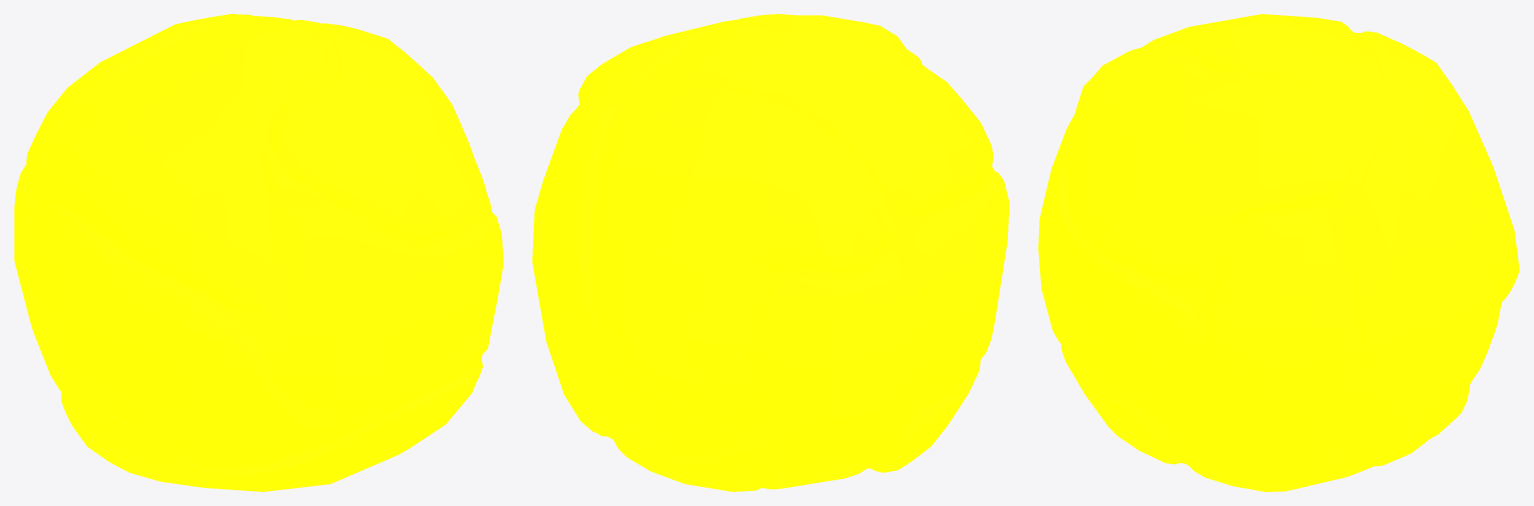
The model's file is planet_41.glb.
3 renders of one model, left to right at view 1: azimuth 30°, elevation 25°; view 2: azimuth 150°, elevation 25°; view 3: azimuth 270°, elevation 25°, orthographic.
Parts seen in each view (by area): view 1: Cube.059; view 2: Cube.059; view 3: Cube.059.
Part boxes in pixels (x1,y1,x2,y2): Cube.059: [14, 14, 503, 491]; Cube.059: [532, 14, 1009, 491]; Cube.059: [1038, 14, 1519, 491].
Size of the model in its own units: 2.8 by 2.79 by 2.78.
Materials: 1 (1 with a texture image).
